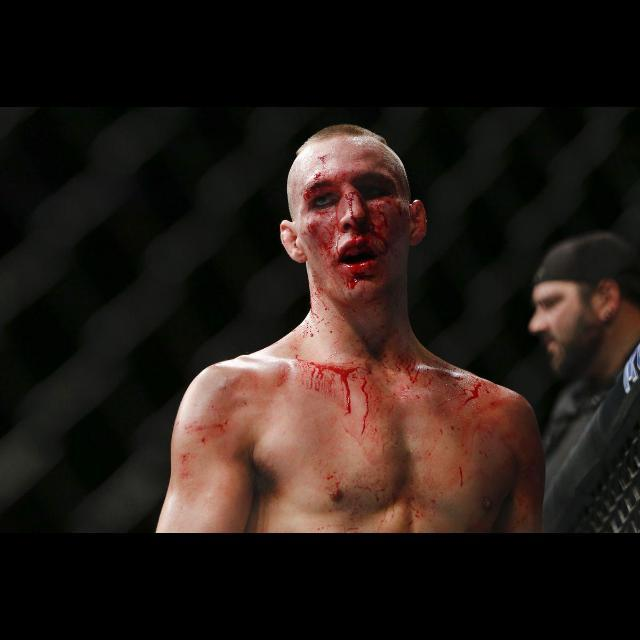blood: (272, 276, 545, 534), (291, 146, 430, 308), (172, 369, 262, 485)
